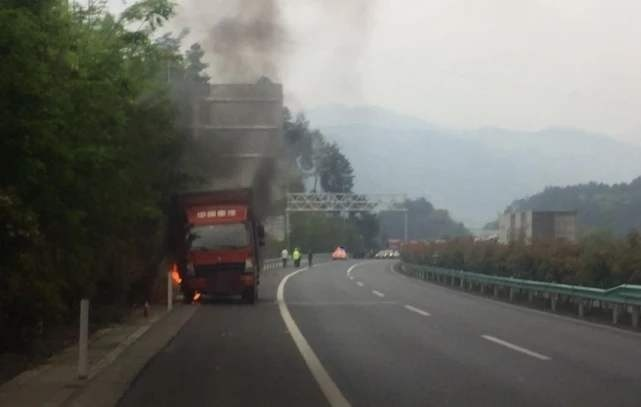fire: (168, 261, 204, 302)
